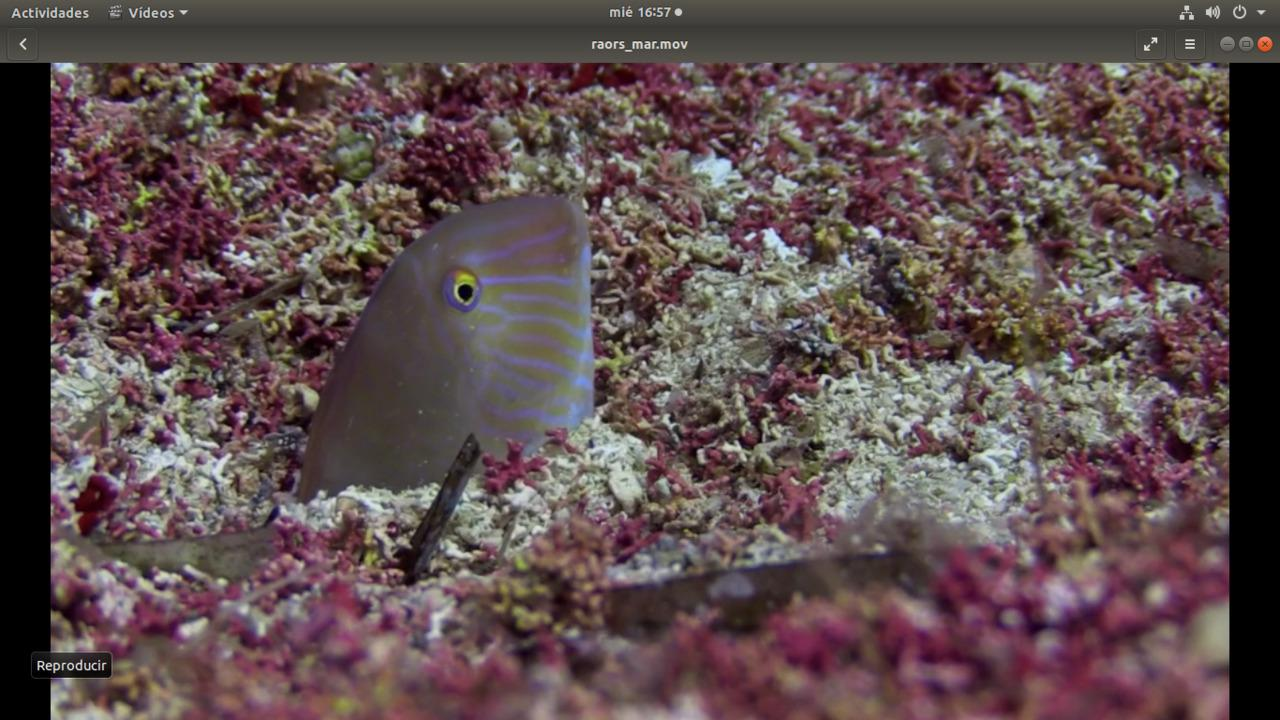raor: (286, 190, 603, 503)
